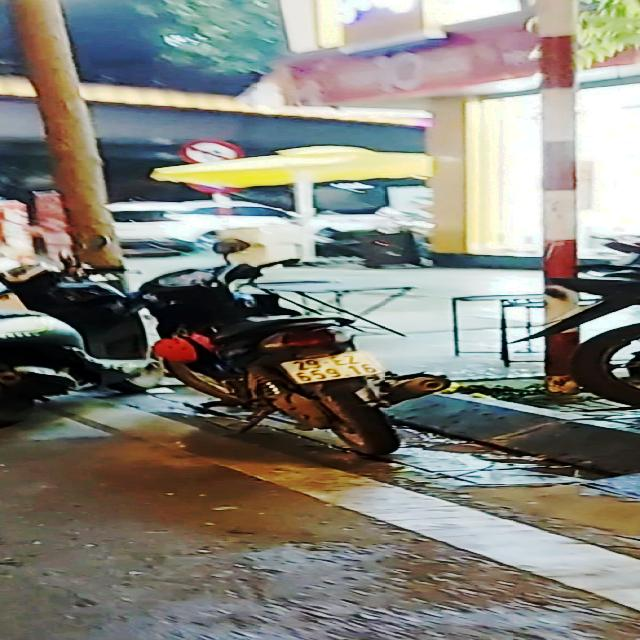license_plate: (269, 348, 391, 387)
